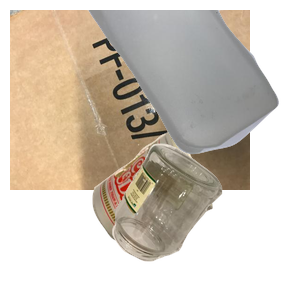cardboard: (10, 10, 250, 190)
glass: (110, 141, 300, 300)
plastic: (84, 10, 300, 157)
trash: (90, 129, 295, 300)
